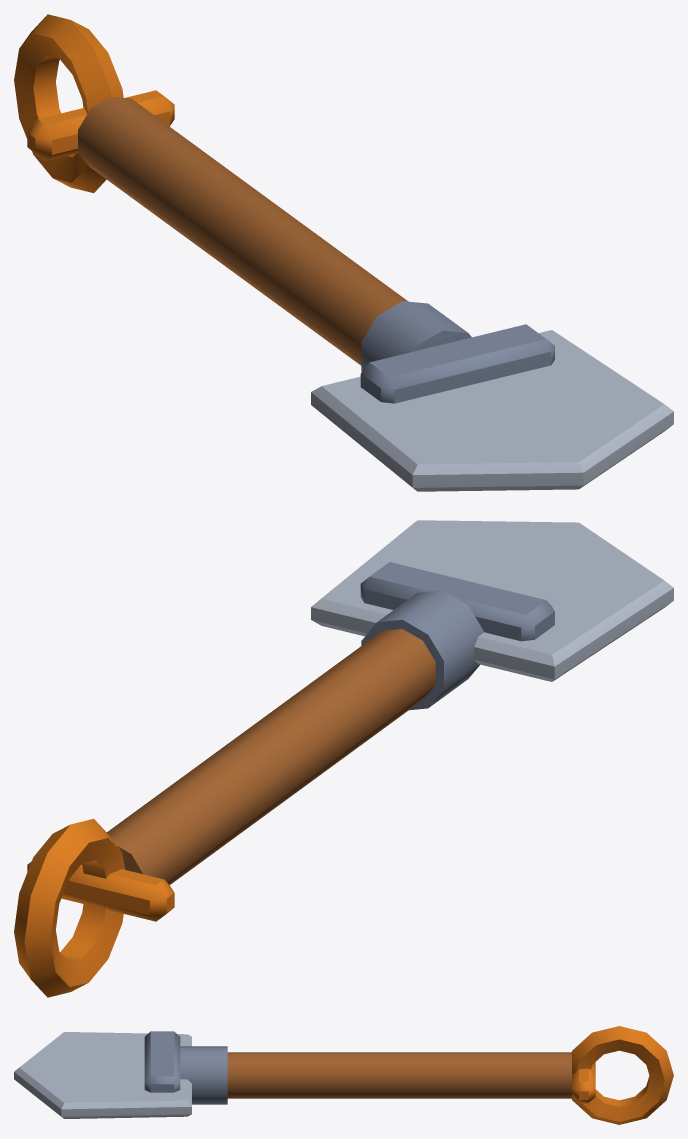
Rendered from w_b_shovel.glb.
3 views of the same model, one above another, from view 1: azimuth 30°, elevation 25°; view 2: azimuth 150°, elevation 25°; view 3: azimuth 270°, elevation 25° (orthographic). The views are drawn at different scales.
Visible parts, largest first — view 1: body; view 2: body; view 3: body.
Part boxes in pixels (x1=…): body: x1=14, y1=14, x2=673, y2=491; body: x1=14, y1=520, x2=673, y2=997; body: x1=14, y1=1026, x2=673, y2=1124.
Size of the model in its own units: 0.225 by 0.138 by 0.834.
